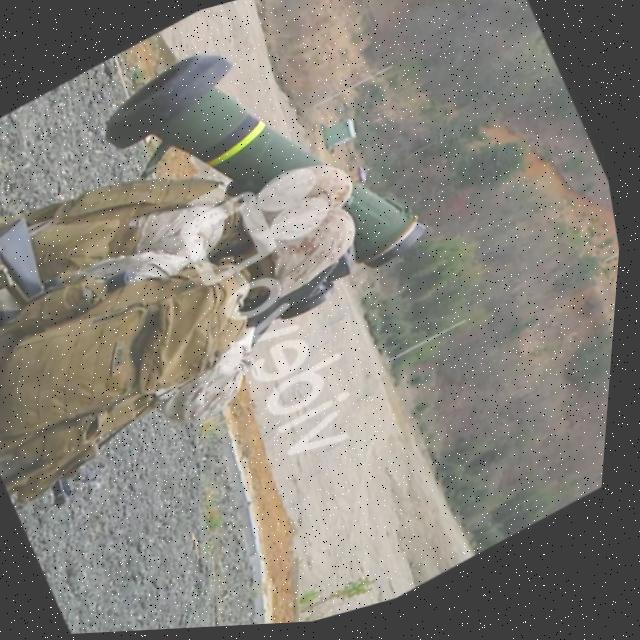rocket: (68, 0, 456, 375)
